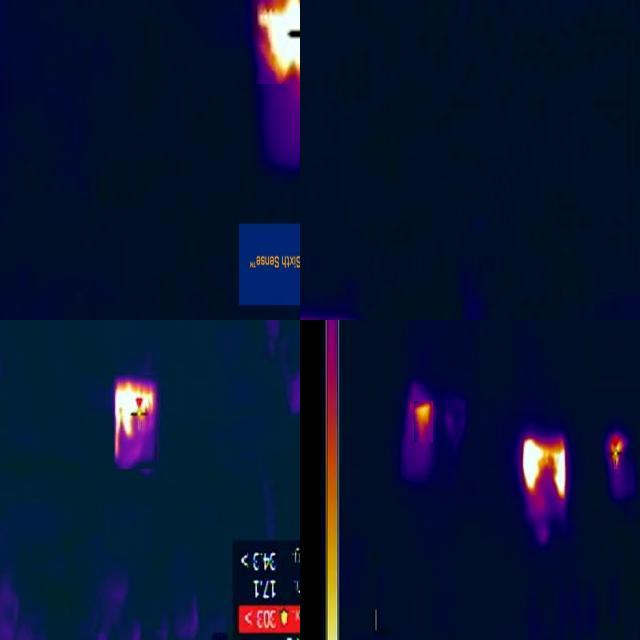fire: (114, 375, 157, 469), (257, 1, 301, 84), (521, 435, 569, 503), (414, 401, 433, 443), (607, 436, 627, 472)
